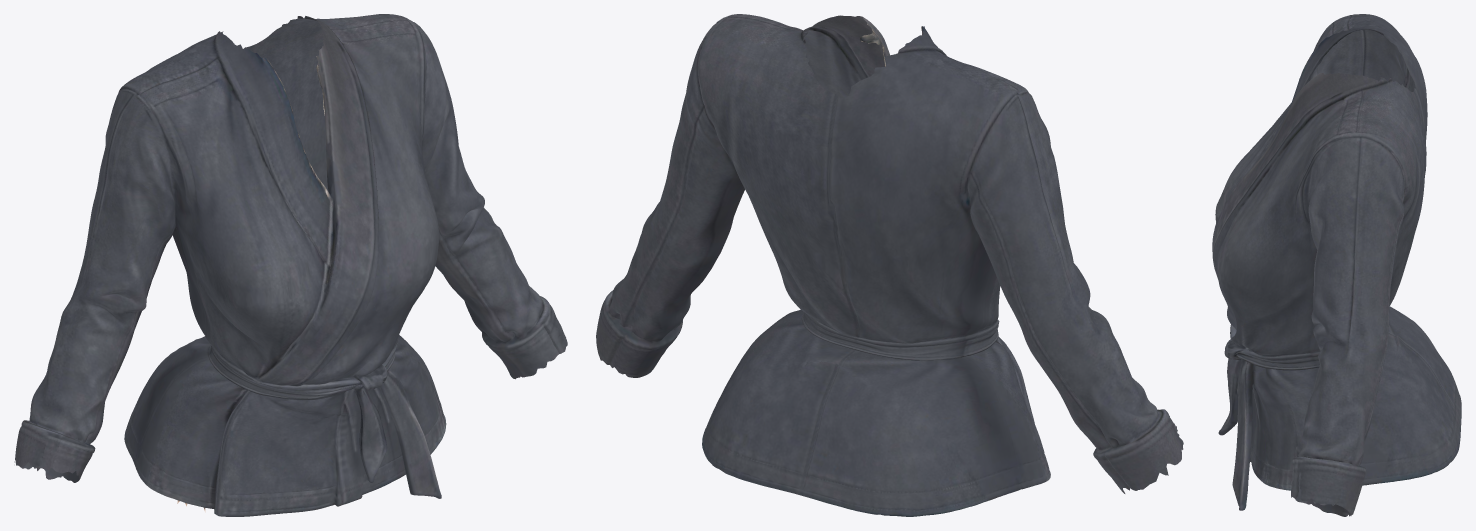
File: eq_jinzhuang_raw_aligned.glb
3 renders of one model, left to right at view 1: azimuth 30°, elevation 25°; view 2: azimuth 150°, elevation 25°; view 3: azimuth 270°, elevation 25°, orthographic. The views are drawn at different scales.
Parts seen in each view (by area): view 1: ExtractedGarment; view 2: ExtractedGarment; view 3: ExtractedGarment.
Boxes of the visible parts, <box> form: ExtractedGarment: <box>14,14,567,516</box>; ExtractedGarment: <box>596,14,1183,516</box>; ExtractedGarment: <box>1212,14,1461,516</box>.
Bounding box in the file's own units: 0.4162 × 0.3291 × 0.1788.
1 material, 1 textured.
